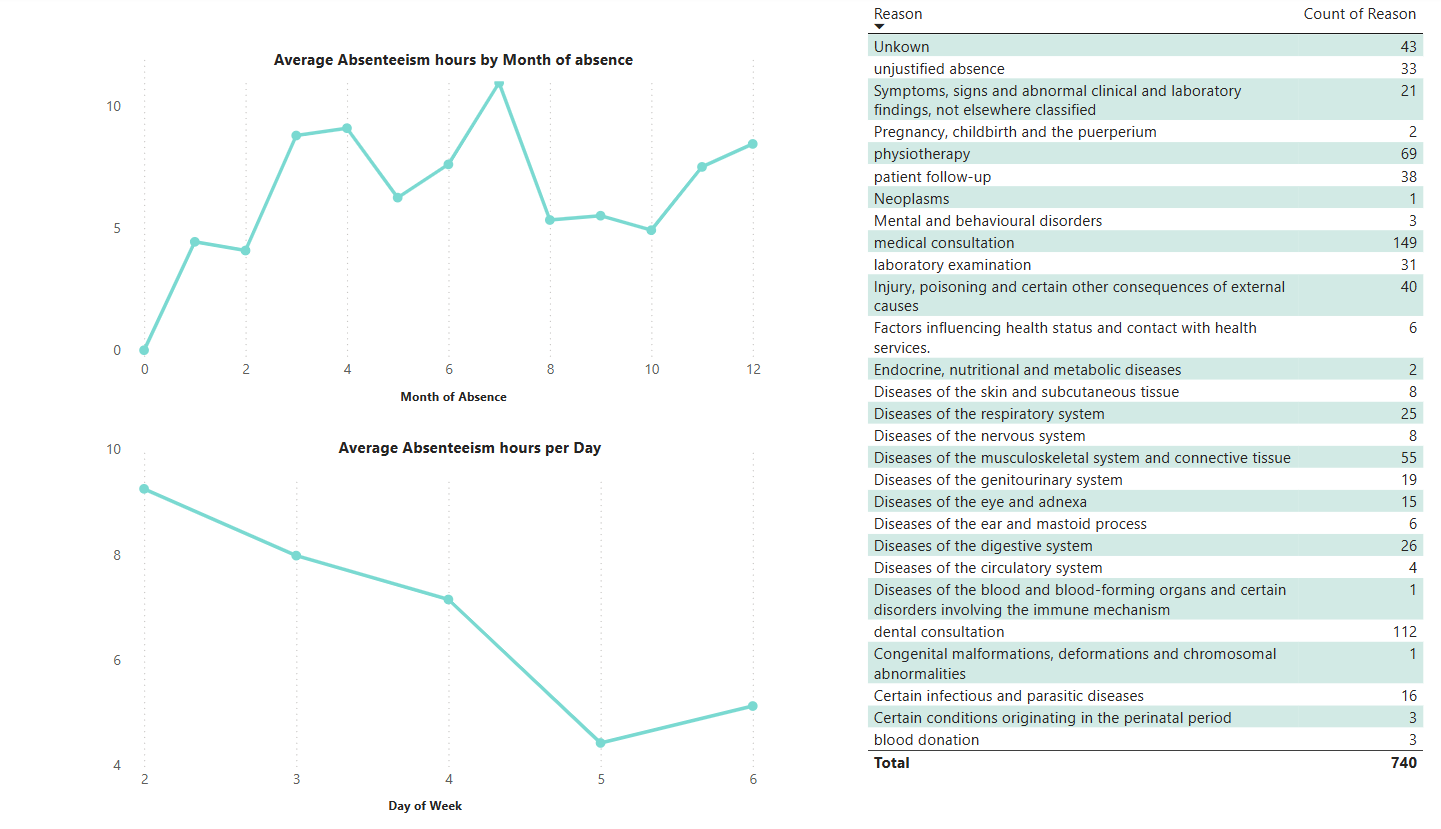

Layout of this report page (visuals, bound fields, positions):
{"tool":"powerbi","page":{"name":"Reason","canvas":[1280,720],"ordinal":1},"visuals":[{"type":"tableEx","fields":{"Values":["Query1.Reason","CountNonNull(Query1.Reason)"]},"box":[770.3,0,502.5,720.2],"z":0},{"type":"lineChart","fields":{"Category":["Query1.Month_of_absence"],"Y":["Avg(Query1.Absenteeism_time_in_hours)"]},"box":[113.9,38.8,577.9,300.8],"z":0,"group":"g2"},{"type":"textbox","box":[296.9,330.5,244.1,34.5],"z":1000,"group":"g2"},{"type":"group","id":"g1","title":"Group 2","box":[113.9,375.2,577.9,342.3],"z":1000},{"type":"group","id":"g2","title":"Group 1","box":[113.9,38.8,577.9,326.2],"z":2000},{"type":"textbox","box":[203.7,40.6,430.4,32.8],"z":2000,"group":"g2"},{"type":"lineChart","fields":{"Category":["Query1.Day_of_the_week"],"Y":["Avg(Query1.Absenteeism_time_in_hours)"]},"box":[113.9,377,577.9,316.6],"z":3000,"group":"g1"},{"type":"textbox","box":[215.8,375.2,434.7,41.4],"z":4000,"group":"g1"},{"type":"textbox","box":[324.5,683,139.7,34.5],"z":5000,"group":"g1"}]}

Visuals, with their boxes in screenshot pixels (x1, y1, x2, y2), scaled from the page's 1280x720 canvas onto the 1441x829 screenshot:
tableEx - Query1.Reason x CountNonNull(Query1.Reason): [867,0,1433,828]
lineChart - Query1.Month_of_absence x Avg(Query1.Absenteeism_time_in_hours): [128,45,779,391]
textbox: [334,381,609,420]
"Group 2" group: [128,432,779,826]
"Group 1" group: [128,45,779,420]
textbox: [229,47,714,85]
lineChart - Query1.Day_of_the_week x Avg(Query1.Absenteeism_time_in_hours): [128,434,779,799]
textbox: [243,432,732,480]
textbox: [365,786,523,826]
